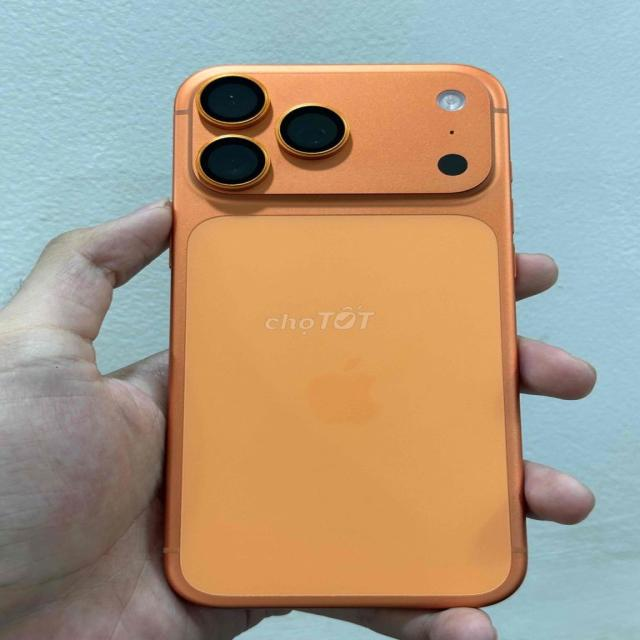gen_17: (158, 63, 528, 625)
